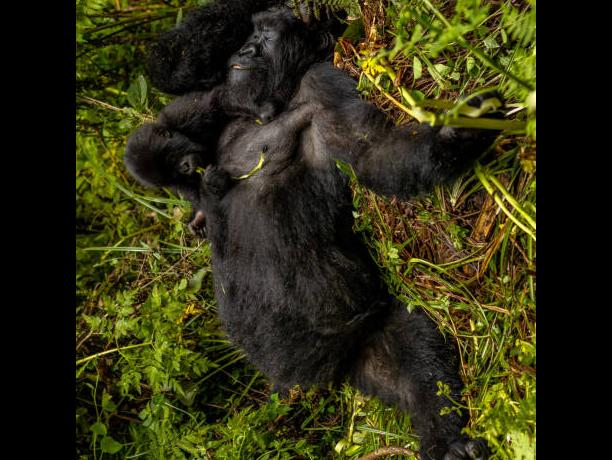goriile_montagne: (196, 0, 375, 386), (125, 88, 237, 202)
